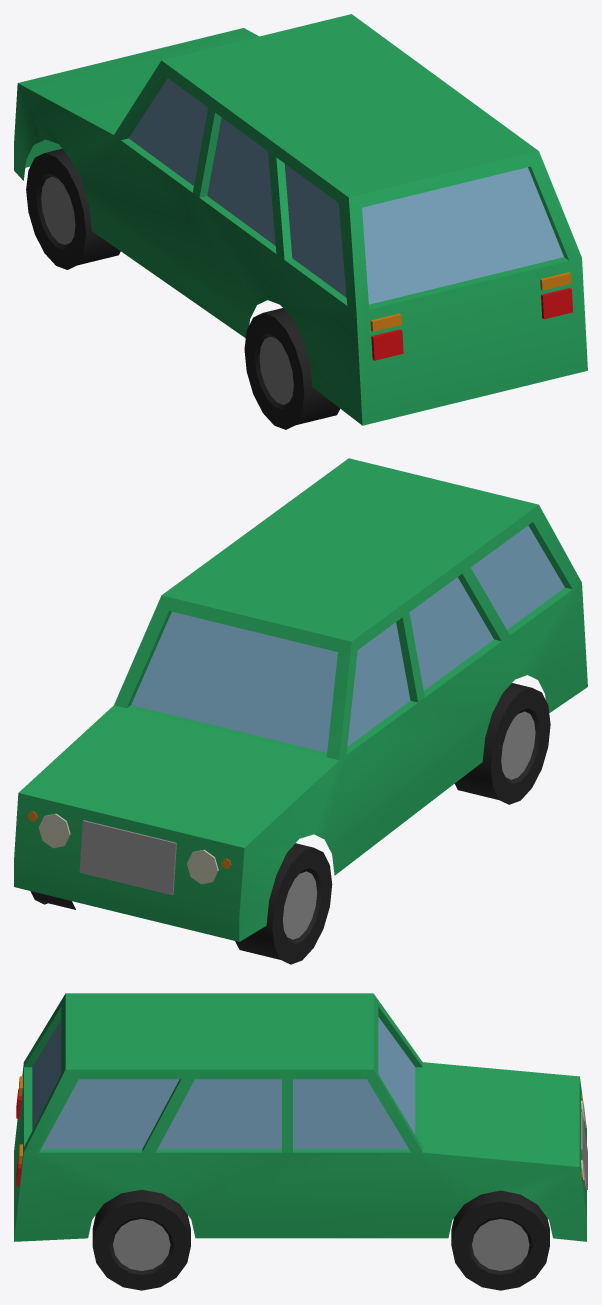
Rendered from new_green_station.fbx.
3 views of the same model, one above another, from view 1: azimuth 30°, elevation 25°; view 2: azimuth 150°, elevation 25°; view 3: azimuth 270°, elevation 25° (orthographic). The views are drawn at different scales.
Parts seen in each view (by area): view 1: car-station-green_Cube.603_carmaterial_green, car-station-green_Cube.603_windows, car-station-green_Cube.603_tires, car-station-green_Cube.603_metal, car-station-green_Cube.603_lights.red, car-station-green_Cube.603_lights.orange; view 2: car-station-green_Cube.603_carmaterial_green, car-station-green_Cube.603_windows, car-station-green_Cube.603_tires, car-station-green_Cube.603_metal, car-station-green_Cube.603_lights; view 3: car-station-green_Cube.603_carmaterial_green, car-station-green_Cube.603_windows, car-station-green_Cube.603_tires, car-station-green_Cube.603_metal.
Boxes of the visible parts, x1,y1,x2,y2 form: car-station-green_Cube.603_carmaterial_green: [14, 14, 587, 425]; car-station-green_Cube.603_windows: [128, 78, 563, 304]; car-station-green_Cube.603_tires: [26, 148, 339, 429]; car-station-green_Cube.603_metal: [41, 177, 293, 404]; car-station-green_Cube.603_lights.red: [371, 288, 572, 360]; car-station-green_Cube.603_lights.orange: [370, 272, 571, 331]; car-station-green_Cube.603_carmaterial_green: [14, 458, 587, 941]; car-station-green_Cube.603_windows: [131, 525, 564, 752]; car-station-green_Cube.603_tires: [30, 683, 550, 964]; car-station-green_Cube.603_metal: [79, 711, 535, 939]; car-station-green_Cube.603_lights: [38, 813, 218, 884]; car-station-green_Cube.603_carmaterial_green: [14, 993, 586, 1241]; car-station-green_Cube.603_windows: [32, 1017, 415, 1149]; car-station-green_Cube.603_tires: [92, 1189, 549, 1290]; car-station-green_Cube.603_metal: [113, 1112, 587, 1270].
Size of the model in its own units: 0.854 by 0.846 by 2.1.
